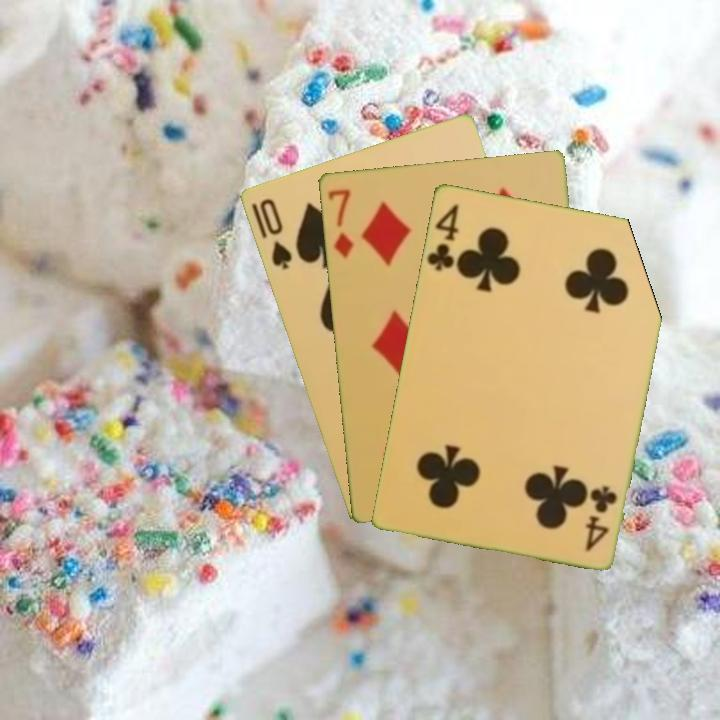10s: (255, 194, 295, 272)
4c: (581, 481, 620, 554), (423, 199, 461, 273)
7d: (324, 185, 355, 261)
